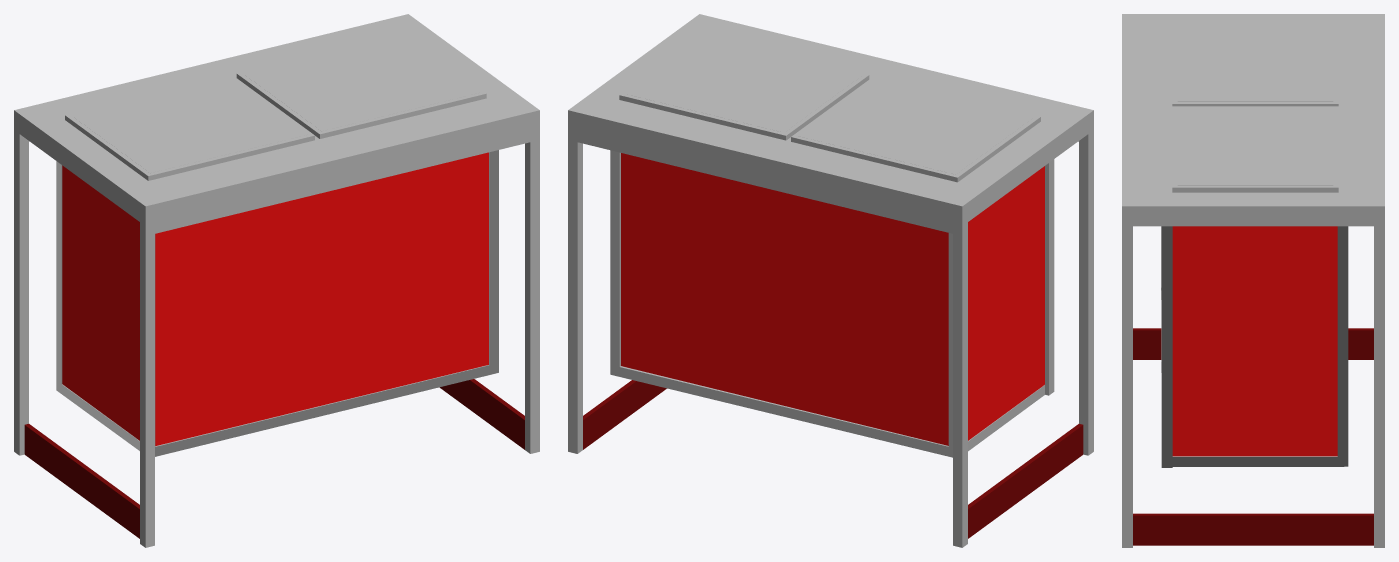
Rendered from CN Global Counter_stall_2.FBX.
3 renders of one model, left to right at view 1: azimuth 30°, elevation 25°; view 2: azimuth 150°, elevation 25°; view 3: azimuth 270°, elevation 25°, orthographic.
Visible parts, largest first — view 1: CN Global Counter_stall_2; view 2: CN Global Counter_stall_2; view 3: CN Global Counter_stall_2.
Part boxes in pixels (x1=…): CN Global Counter_stall_2: x1=14, y1=14, x2=539, y2=547; CN Global Counter_stall_2: x1=568, y1=14, x2=1093, y2=547; CN Global Counter_stall_2: x1=1122, y1=14, x2=1384, y2=547.
Bounding box in the file's own units: 43.41 × 36.46 × 25.07.
